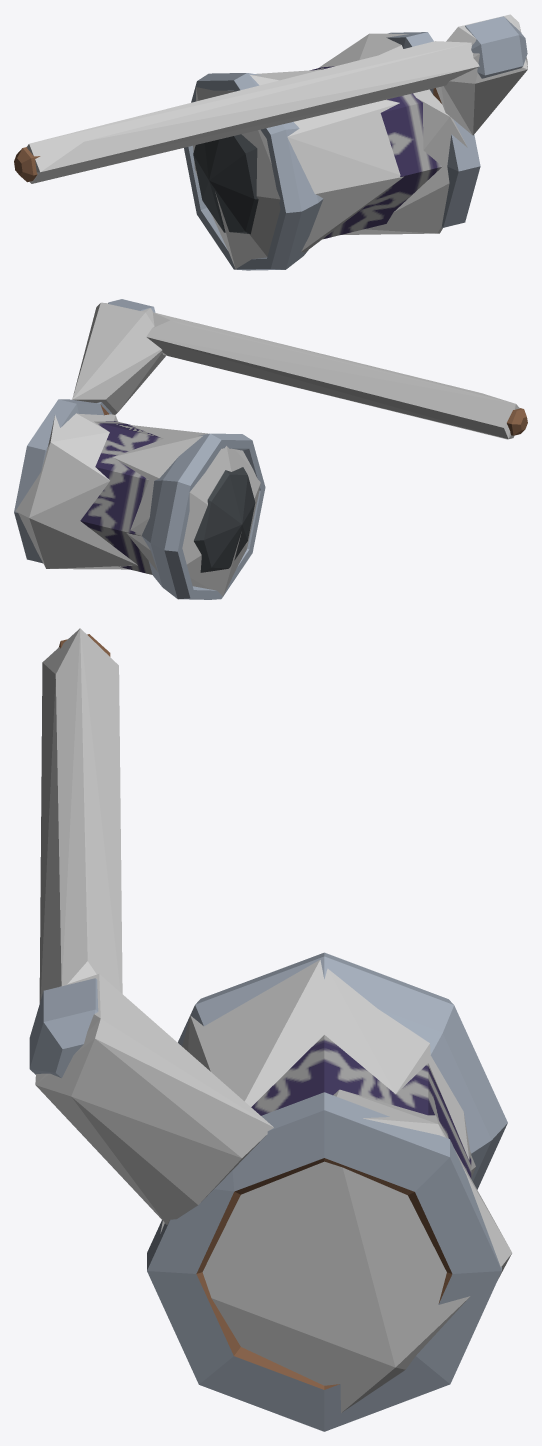
The model's file is SM_Prop_Viewing_Telescope_03.fbx.
3 views of the same model, one above another, from view 1: azimuth 30°, elevation 25°; view 2: azimuth 150°, elevation 25°; view 3: azimuth 270°, elevation 25° (orthographic). The views are drawn at different scales.
Visible parts, largest first — view 1: SM_Prop_Viewing_Telescope_03_ConvexHulls, SM_Prop_Viewing_Telescope_03; view 2: SM_Prop_Viewing_Telescope_03_ConvexHulls, SM_Prop_Viewing_Telescope_03; view 3: SM_Prop_Viewing_Telescope_03_ConvexHulls, SM_Prop_Viewing_Telescope_03.
Part boxes in pixels (x1,y1,x2,y2): SM_Prop_Viewing_Telescope_03_ConvexHulls: (27, 14, 527, 268); SM_Prop_Viewing_Telescope_03: (14, 16, 527, 270); SM_Prop_Viewing_Telescope_03_ConvexHulls: (15, 302, 519, 596); SM_Prop_Viewing_Telescope_03: (14, 299, 527, 599); SM_Prop_Viewing_Telescope_03_ConvexHulls: (35, 628, 511, 1412); SM_Prop_Viewing_Telescope_03: (29, 634, 507, 1431).
Bounding box in the file's own units: 66.08 × 32.43 × 32.19.
2 materials, 1 textured.
